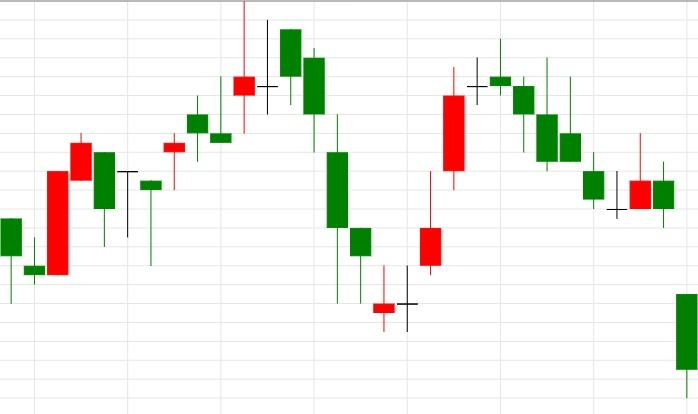hammer_rise: (280, 29, 371, 304)
